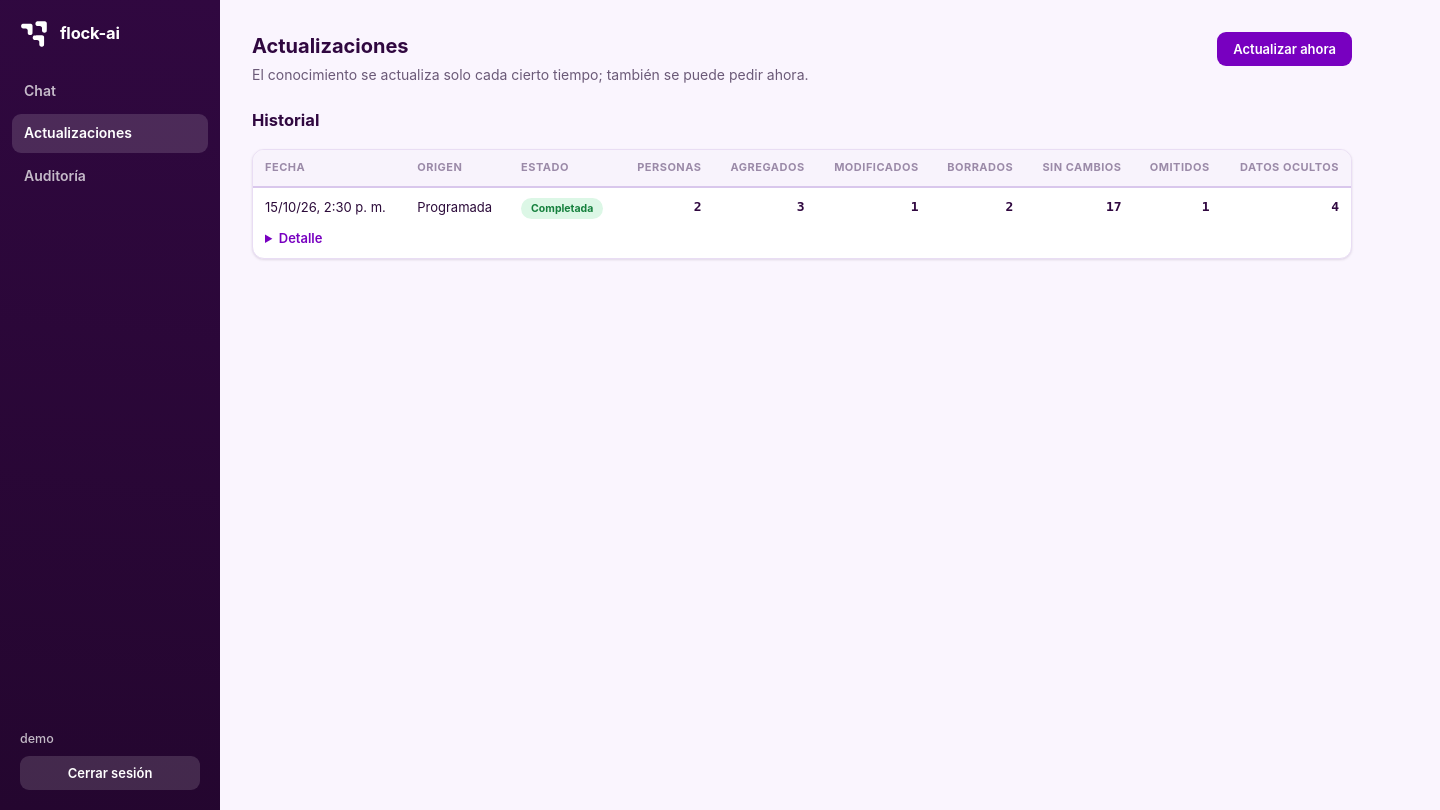
updates screen › asks for an update now and shows it as requested
Expected: the text "Completada" is shown, [521,198,603,219]
Click the button "Actualizar ahora". click: x=1285, y=49
box: [1217,32,1352,66]
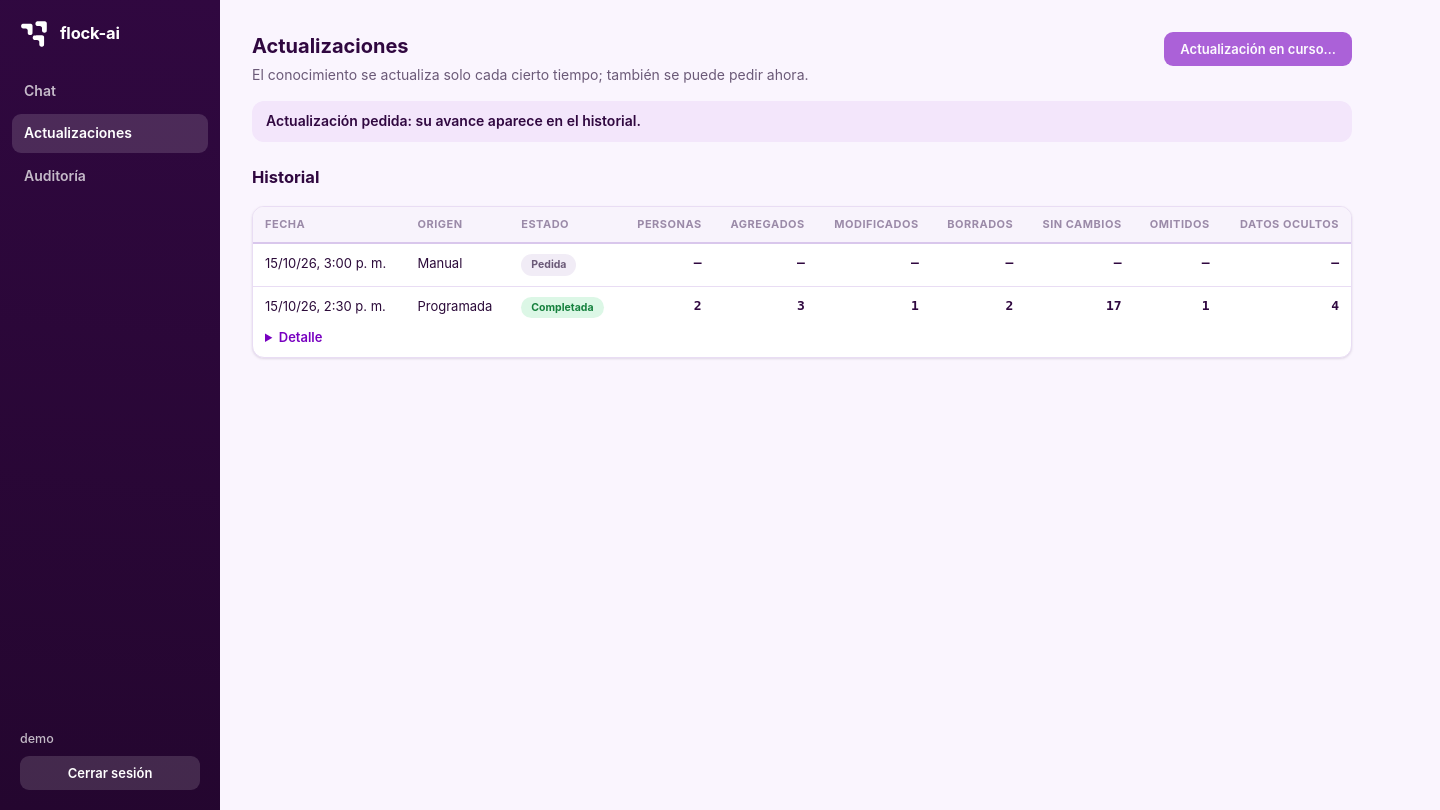
Expected: the message shows "Actualización pedida", [266,112,641,129]
Expected: the text "Pedida" is shown, [521,254,576,276]
Expected: the button "Actualización en curso…" is disabled, [1164,32,1352,66]
